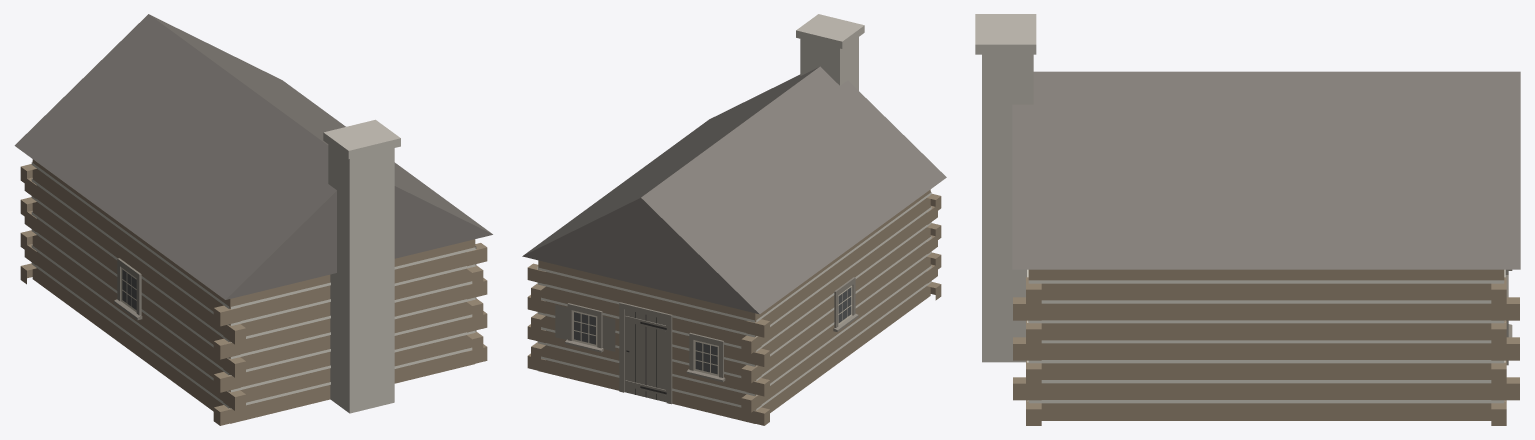
File: recon_1835_north_d1_060__inferred_1835.glb
The picture shows the model from 3 angles, left to right: view 1: azimuth 30°, elevation 25°; view 2: azimuth 150°, elevation 25°; view 3: azimuth 270°, elevation 25°; orthographic projection. The views are drawn at different scales.
Visible parts, largest first — view 1: recon_1835_north_d1_060__inferred_1835; view 2: recon_1835_north_d1_060__inferred_1835; view 3: recon_1835_north_d1_060__inferred_1835.
Part boxes in pixels (x1,y1,x2,y2): recon_1835_north_d1_060__inferred_1835: (14,14,492,425); recon_1835_north_d1_060__inferred_1835: (522,14,946,425); recon_1835_north_d1_060__inferred_1835: (975,14,1520,425).
Size of the model in its own units: 5.76 by 5.45 by 8.41.
